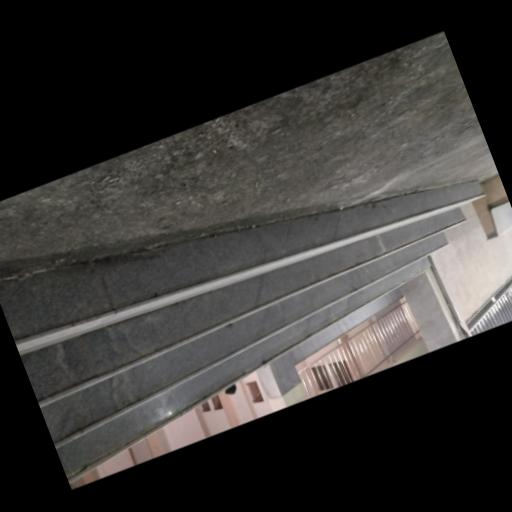stairs: (0, 181, 483, 479)
